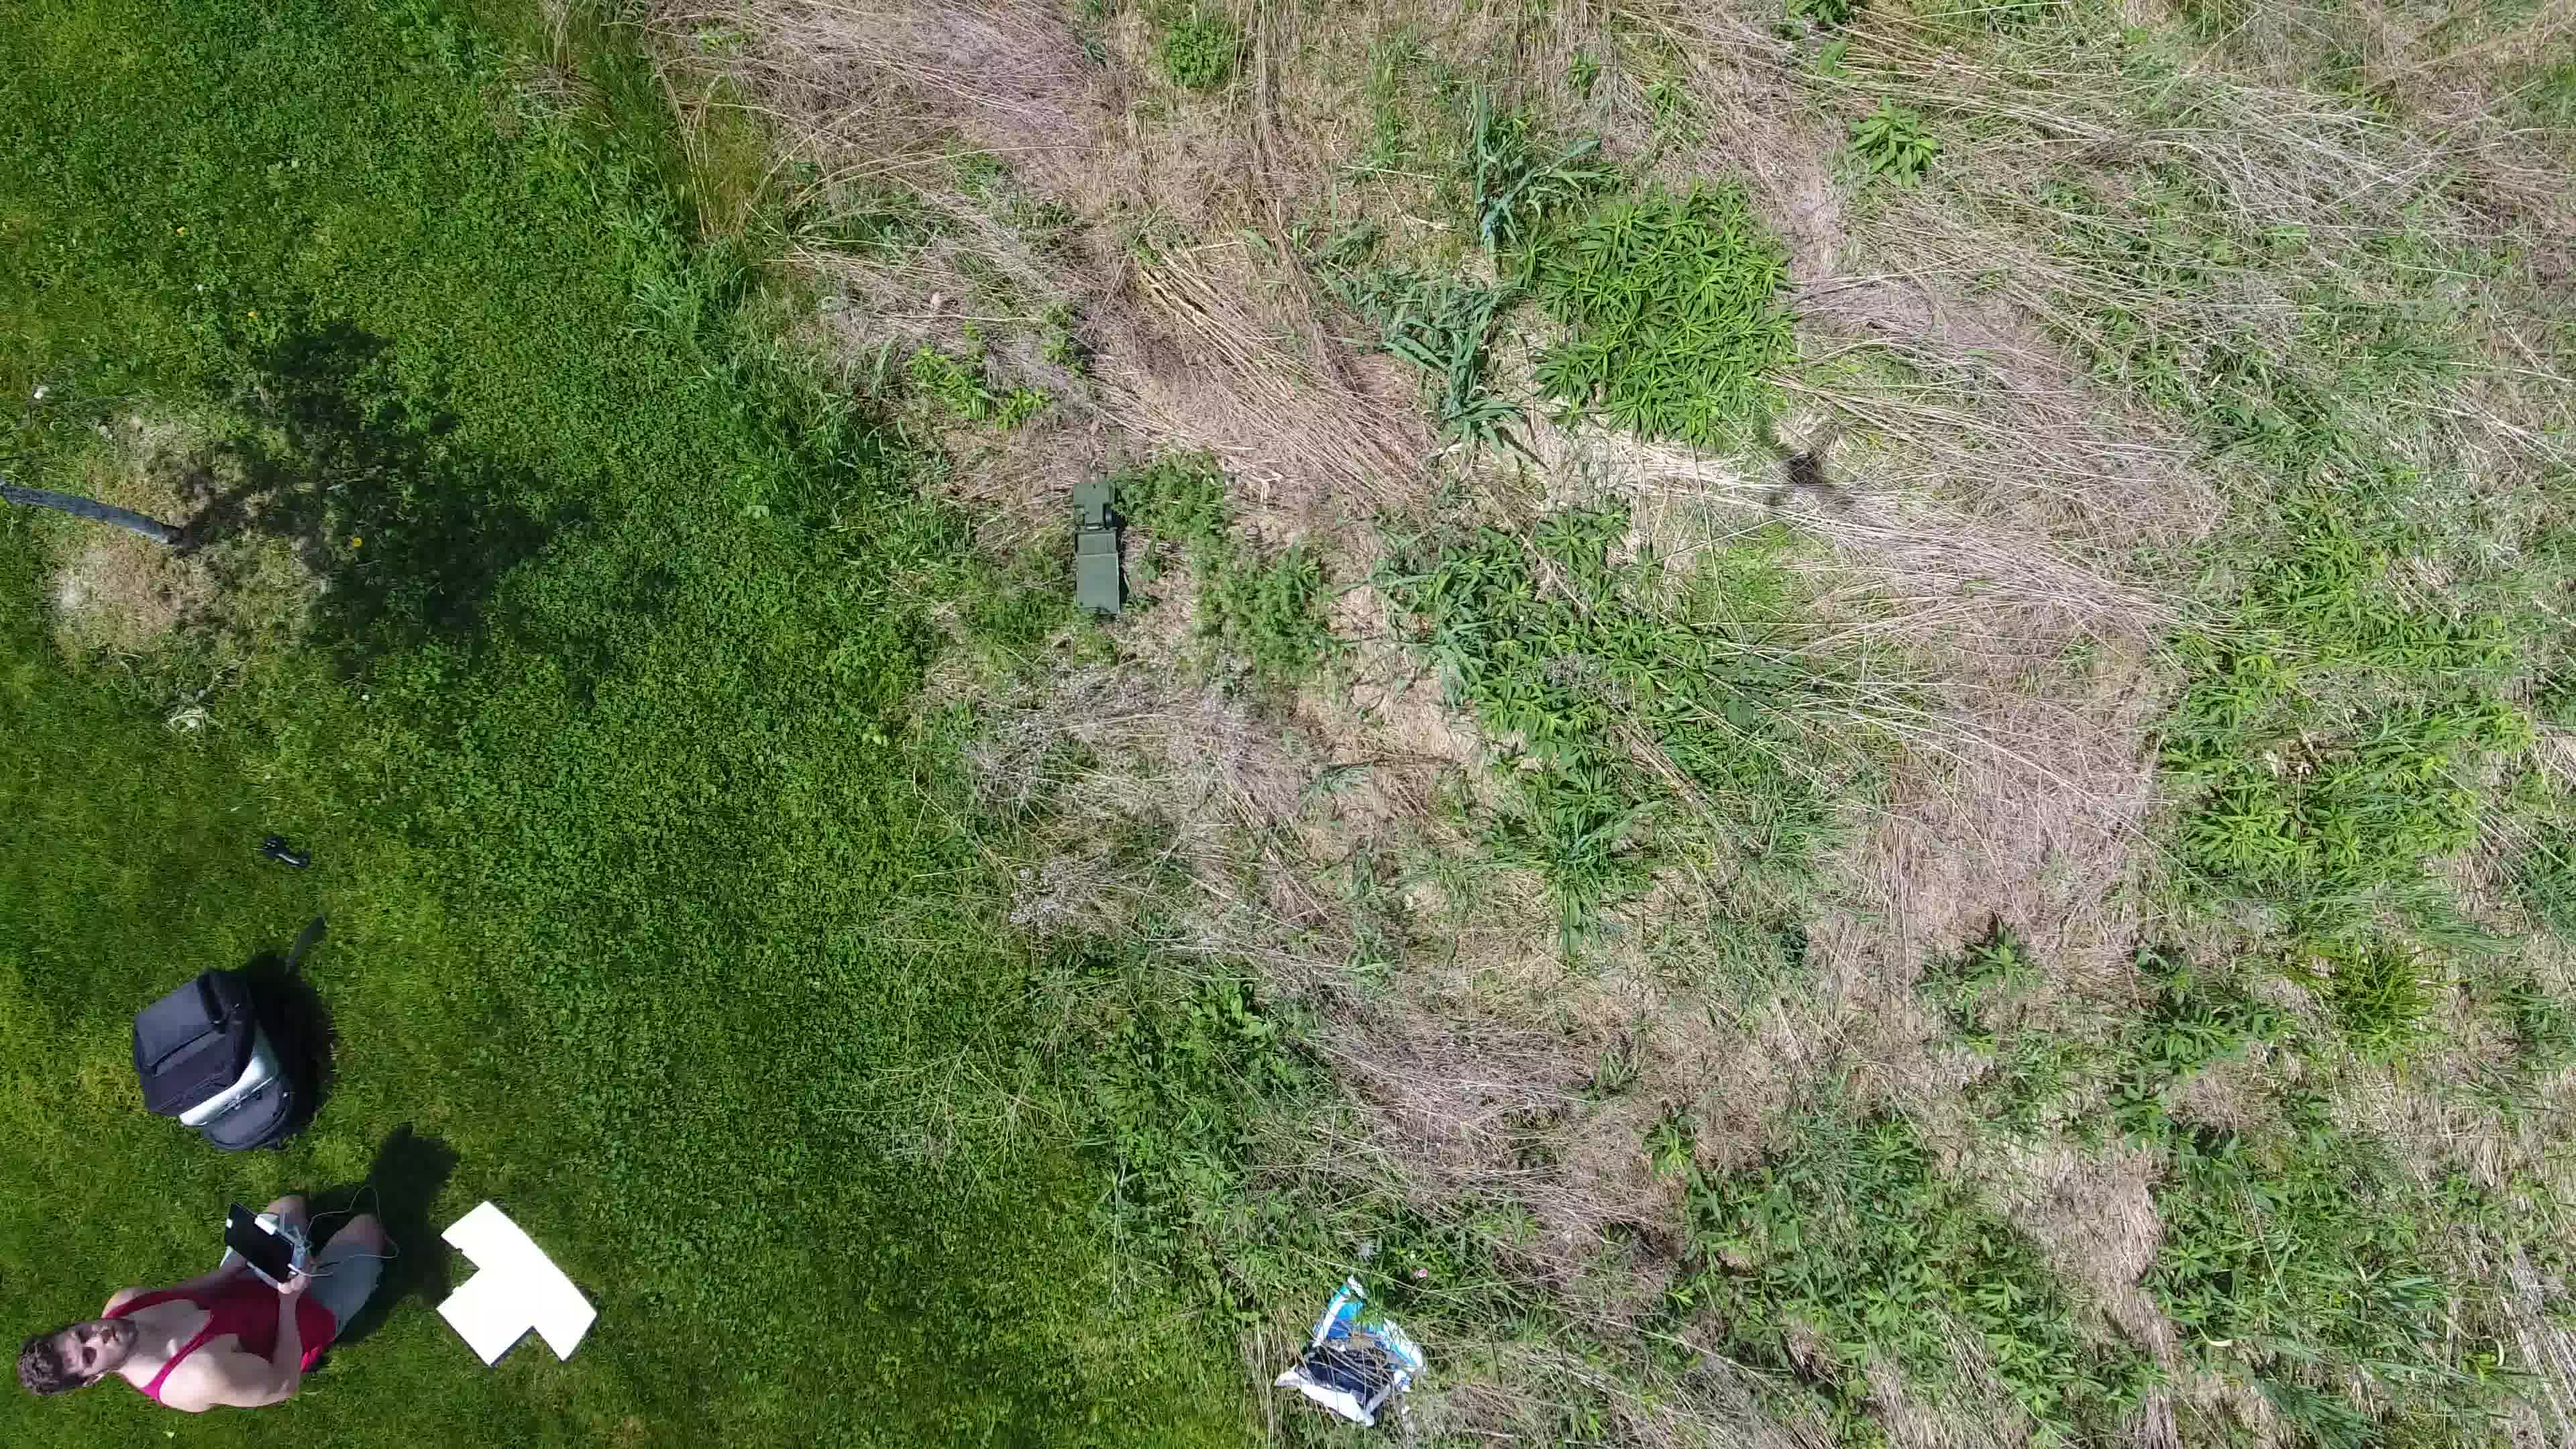transporter9: (1065, 474, 1132, 621)
